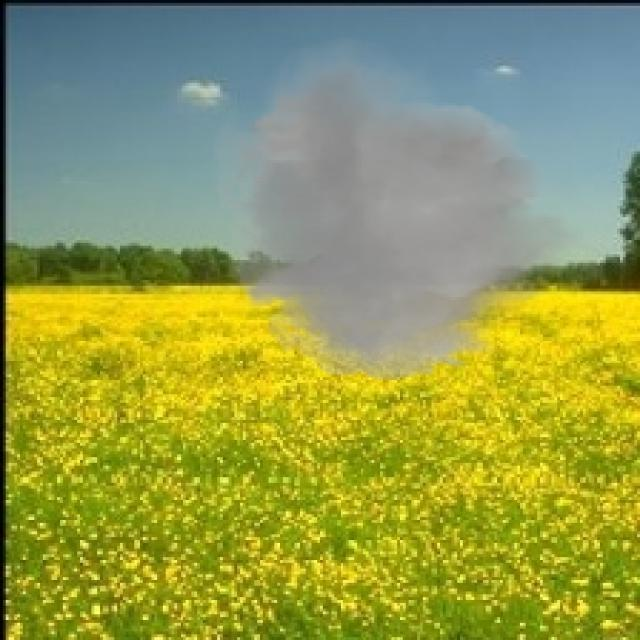Smoke: (197, 34, 592, 389)
